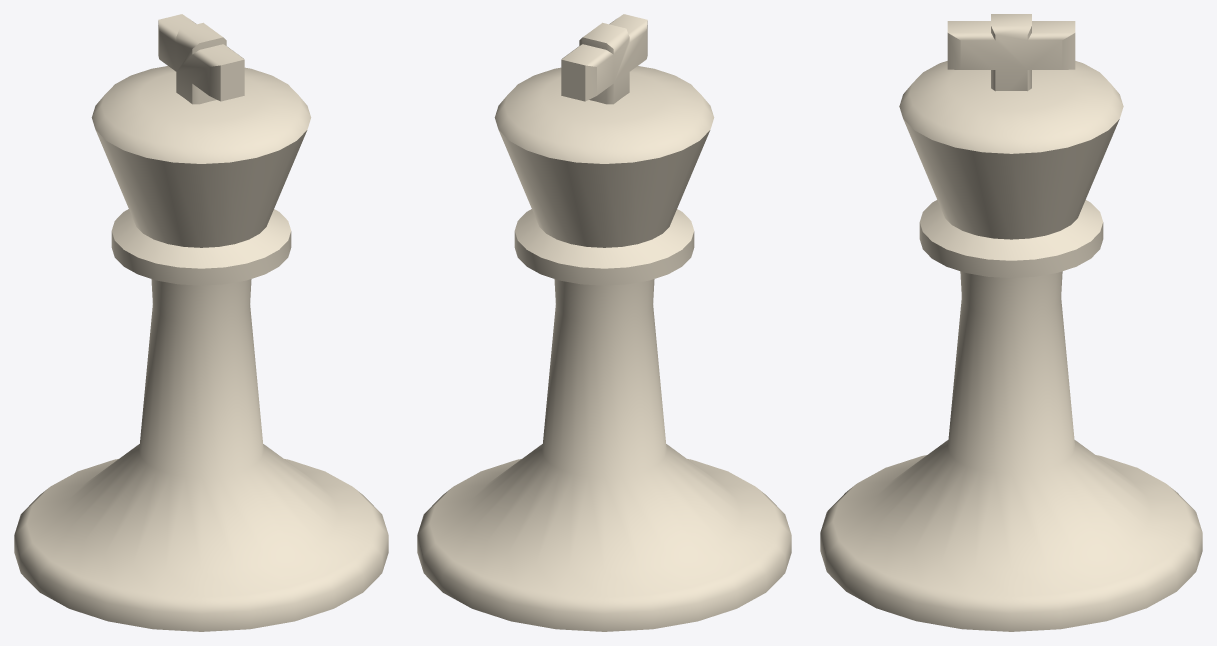
Rendered from white_king.glb.
3 views of the same model, side by side, from view 1: azimuth 30°, elevation 25°; view 2: azimuth 150°, elevation 25°; view 3: azimuth 270°, elevation 25° (orthographic). The views are drawn at different scales.
Parts seen in each view (by area): view 1: white_king; view 2: white_king; view 3: white_king.
Boxes of the visible parts, left/top/right/bottom form: white_king: left=14, top=14, right=388, bottom=631; white_king: left=417, top=14, right=791, bottom=631; white_king: left=820, top=14, right=1202, bottom=631.
Size of the model in its own units: 0.03 by 0.046 by 0.03.
